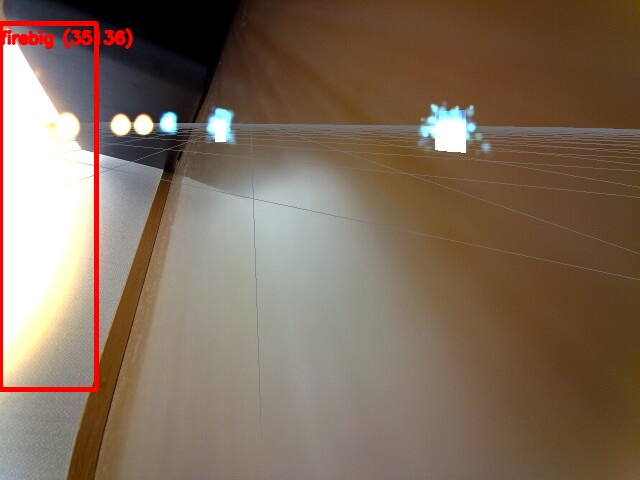firebig: (0, 23, 96, 389)
